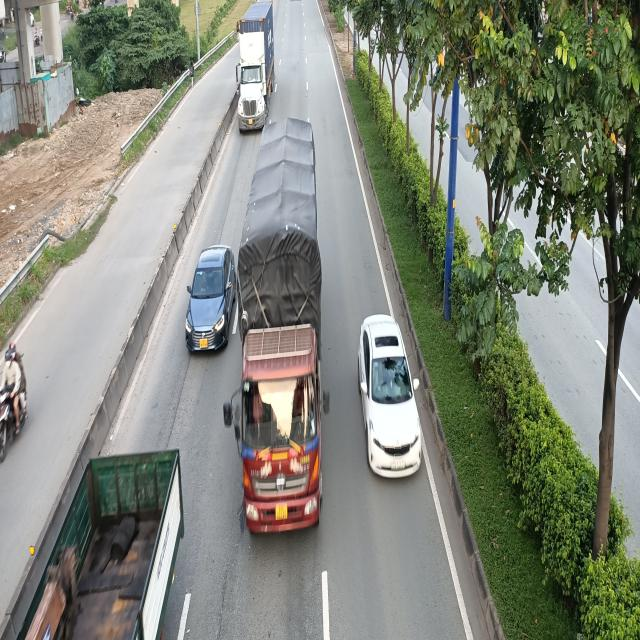car: (358, 314, 427, 478), (185, 242, 237, 358)
container: (235, 0, 274, 134)
truck: (222, 115, 330, 532)
